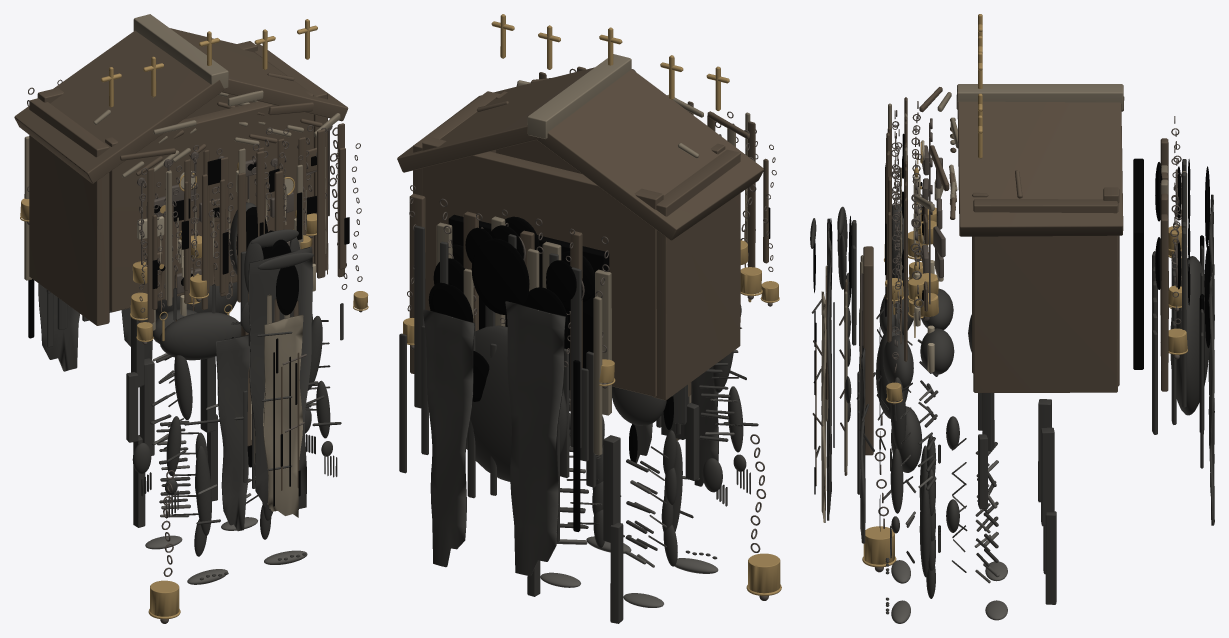
Rendered from penance_carrier_end_goal_v11_safe_sculpt_prep.glb.
3 renders of one model, left to right at view 1: azimuth 30°, elevation 25°; view 2: azimuth 150°, elevation 25°; view 3: azimuth 270°, elevation 25°, orthographic. The views are drawn at different scales.
Visible parts, largest first — view 1: PC_V4_shrine_front_rotten_wall, PC_V4_roof_left_steep_slab, PC_V4_shrine_left_side_wall, PC_V11_black_inner_hanging_cloth_behind_mask, PC_V11_warped_central_door_mask_panel, PC_V11_left_torn_front_cloak_sheet, PC_V4_roof_right_steep_slab, PC_V11_crushed_left_shoulder_meat, PC_V4_roof_ridge_heavy_rot, PC_V11_back_rotten_skin_sheet_left, PC_V4_shrine_right_side_wall, PC_V11_front_uneven_outer_plank_09 (+26 smaller); view 2: PC_V4_shrine_rear_rotten_wall, PC_V4_roof_left_steep_slab, PC_V4_shrine_left_side_wall, PC_V11_back_rotten_skin_sheet_left, PC_V11_back_rotten_skin_sheet_right, PC_V4_roof_right_steep_slab, PC_V11_back_swollen_rotten_under_mass, PC_V11_back_deep_rotted_hole_01, PC_V4_roof_ridge_heavy_rot, PC_V4_back_black_rotten_hollow, PC_V8_back_rotten_rib_08, PC_V6_left_wrapped_thigh (+32 smaller); view 3: PC_V4_shrine_right_side_wall, PC_V4_roof_right_steep_slab, PC_V4_roof_ridge_heavy_rot, PC_V11_back_swollen_rotten_under_mass, PC_V4_back_black_rotten_hollow, PC_V6_long_door_mask_front, PC_V5_back_rotten_vertical_plank_07, PC_V11_back_rotten_skin_sheet_right, PC_V11_black_inner_hanging_cloth_behind_mask, PC_V6_right_wrapped_thigh, PC_V11_warped_central_door_mask_panel, PC_V11_crushed_right_shoulder_meat (+19 smaller).
Boxes of the visible parts, box(x1,y1,x2,y2) form: PC_V4_shrine_front_rotten_wall: box(105, 89, 314, 312); PC_V4_roof_left_steep_slab: box(14, 30, 224, 183); PC_V4_shrine_left_side_wall: box(29, 98, 109, 325); PC_V11_black_inner_hanging_cloth_behind_mask: box(248, 246, 312, 508); PC_V11_warped_central_door_mask_panel: box(263, 314, 303, 517); PC_V11_left_torn_front_cloak_sheet: box(216, 334, 249, 531); PC_V4_roof_right_steep_slab: box(170, 28, 348, 121); PC_V11_crushed_left_shoulder_meat: box(159, 312, 241, 360); PC_V4_roof_ridge_heavy_rot: box(133, 14, 228, 88); PC_V11_back_rotten_skin_sheet_left: box(38, 283, 79, 371); PC_V4_shrine_right_side_wall: box(254, 44, 327, 272); PC_V11_front_uneven_outer_plank_09: box(317, 129, 325, 278); PC_V4_shrine_rear_rotten_wall: box(422, 137, 663, 396); PC_V4_roof_left_steep_slab: box(537, 69, 763, 240); PC_V4_shrine_left_side_wall: box(653, 149, 740, 400); PC_V11_back_rotten_skin_sheet_left: box(505, 301, 565, 576); PC_V11_back_rotten_skin_sheet_right: box(422, 309, 474, 567); PC_V4_roof_right_steep_slab: box(397, 67, 594, 172); PC_V11_back_swollen_rotten_under_mass: box(466, 325, 567, 481); PC_V11_back_deep_rotted_hole_01: box(471, 238, 529, 315); PC_V4_roof_ridge_heavy_rot: box(527, 54, 631, 138); PC_V4_back_black_rotten_hollow: box(448, 214, 609, 390); PC_V8_back_rotten_rib_08: box(414, 225, 425, 408); PC_V6_left_wrapped_thigh: box(603, 435, 620, 542); PC_V4_shrine_right_side_wall: box(973, 199, 1118, 392); PC_V4_roof_right_steep_slab: box(957, 101, 1123, 236); PC_V4_roof_ridge_heavy_rot: box(957, 84, 1123, 110); PC_V11_back_swollen_rotten_under_mass: box(1170, 256, 1209, 415); PC_V4_back_black_rotten_hollow: box(1133, 158, 1143, 369); PC_V6_long_door_mask_front: box(863, 246, 873, 455); PC_V5_back_rotten_vertical_plank_07: box(1160, 214, 1168, 391); PC_V11_back_rotten_skin_sheet_right: box(1209, 264, 1214, 525); PC_V11_black_inner_hanging_cloth_behind_mask: box(827, 218, 831, 520); PC_V6_right_wrapped_thigh: box(1041, 427, 1054, 526); PC_V11_warped_central_door_mask_panel: box(821, 291, 826, 522); PC_V11_crushed_right_shoulder_meat: box(883, 335, 913, 390).
Bounding box in the file's own units: 2.34 × 4.58 × 2.97.
